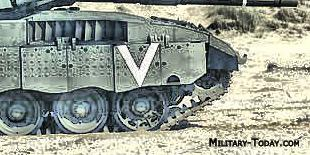tanks: (1, 1, 297, 135)
